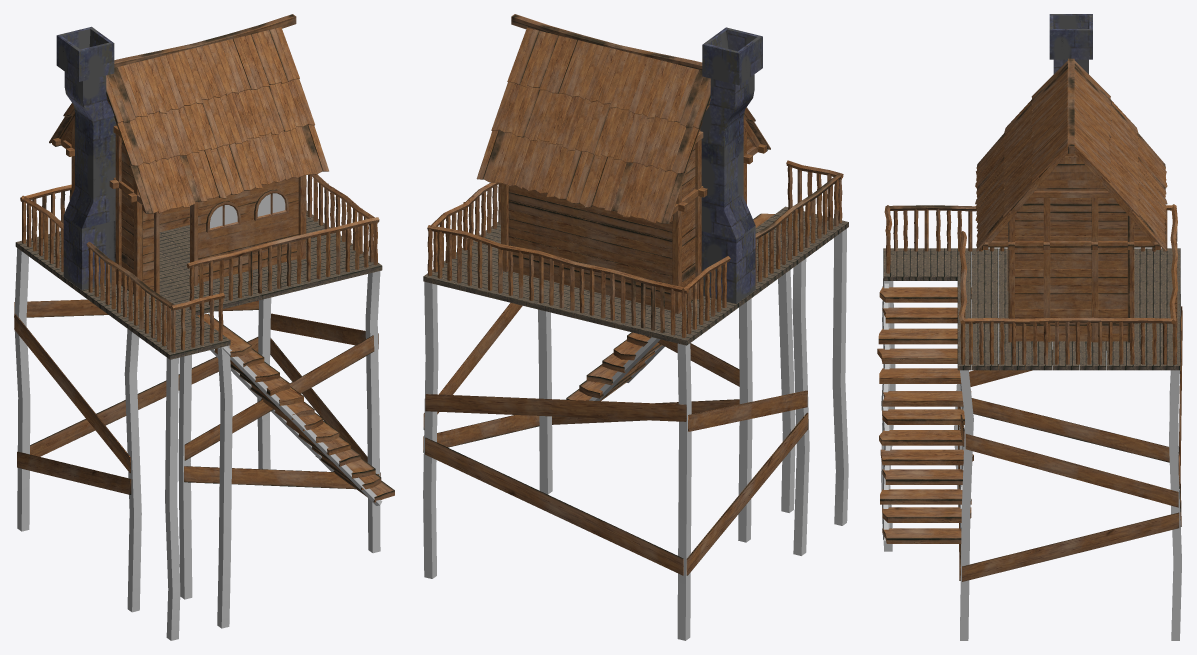
Rendered from Hut.fbx.
3 renders of one model, left to right at view 1: azimuth 30°, elevation 25°; view 2: azimuth 150°, elevation 25°; view 3: azimuth 270°, elevation 25°, orthographic. The views are drawn at different scales.
Visible parts, largest first — view 1: pasted__hut; view 2: pasted__hut; view 3: pasted__hut.
Part boxes in pixels (x1,y1,x2,y2): pasted__hut: (14, 14, 394, 640); pasted__hut: (423, 14, 848, 640); pasted__hut: (877, 14, 1182, 640).
Bounding box in the file's own units: 726 × 1430 × 780.
